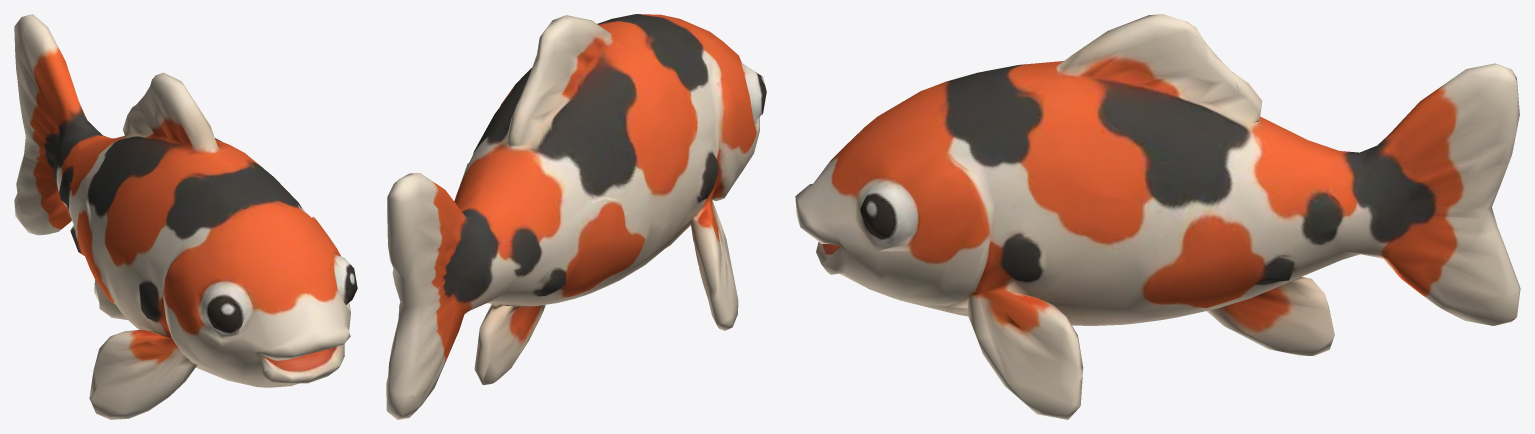
Rendered from fish-koi.glb.
3 views of the same model, side by side, from view 1: azimuth 30°, elevation 25°; view 2: azimuth 150°, elevation 25°; view 3: azimuth 270°, elevation 25° (orthographic). The views are drawn at different scales.
Parts seen in each view (by area): view 1: tripo_node_b31ac1e8-b175-45bd-bbde-97152f3ad284; view 2: tripo_node_b31ac1e8-b175-45bd-bbde-97152f3ad284; view 3: tripo_node_b31ac1e8-b175-45bd-bbde-97152f3ad284.
Boxes of the visible parts, <box> form: tripo_node_b31ac1e8-b175-45bd-bbde-97152f3ad284: <box>14,14,357,419</box>; tripo_node_b31ac1e8-b175-45bd-bbde-97152f3ad284: <box>386,14,766,419</box>; tripo_node_b31ac1e8-b175-45bd-bbde-97152f3ad284: <box>795,14,1520,419</box>.
Size of the model in its own units: 0.4493 by 0.519 by 1.
1 material, 1 textured.
